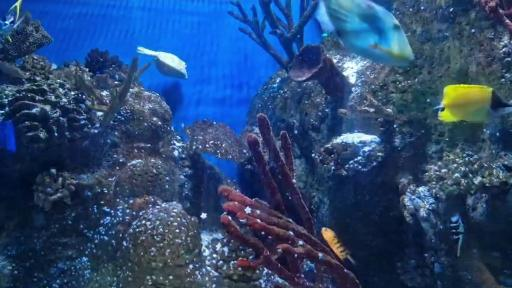Fish: (315, 0, 414, 66), (435, 84, 512, 122), (137, 46, 187, 78), (322, 228, 353, 261), (2, 0, 22, 32)
